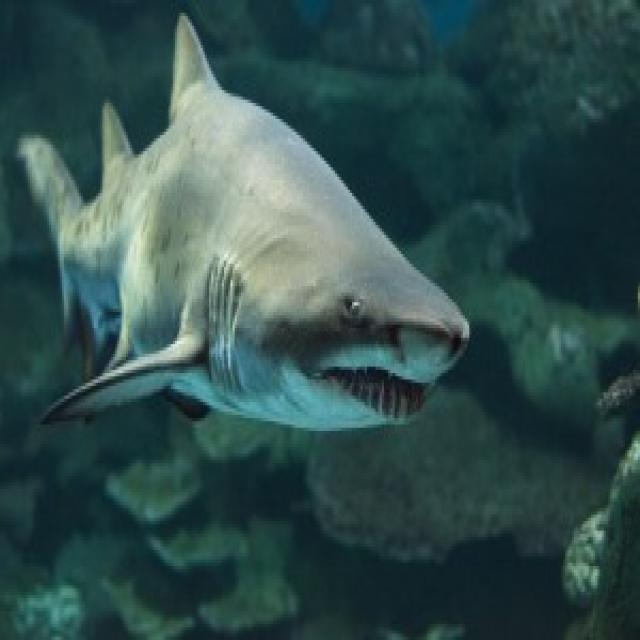Shark: (14, 7, 470, 449)
